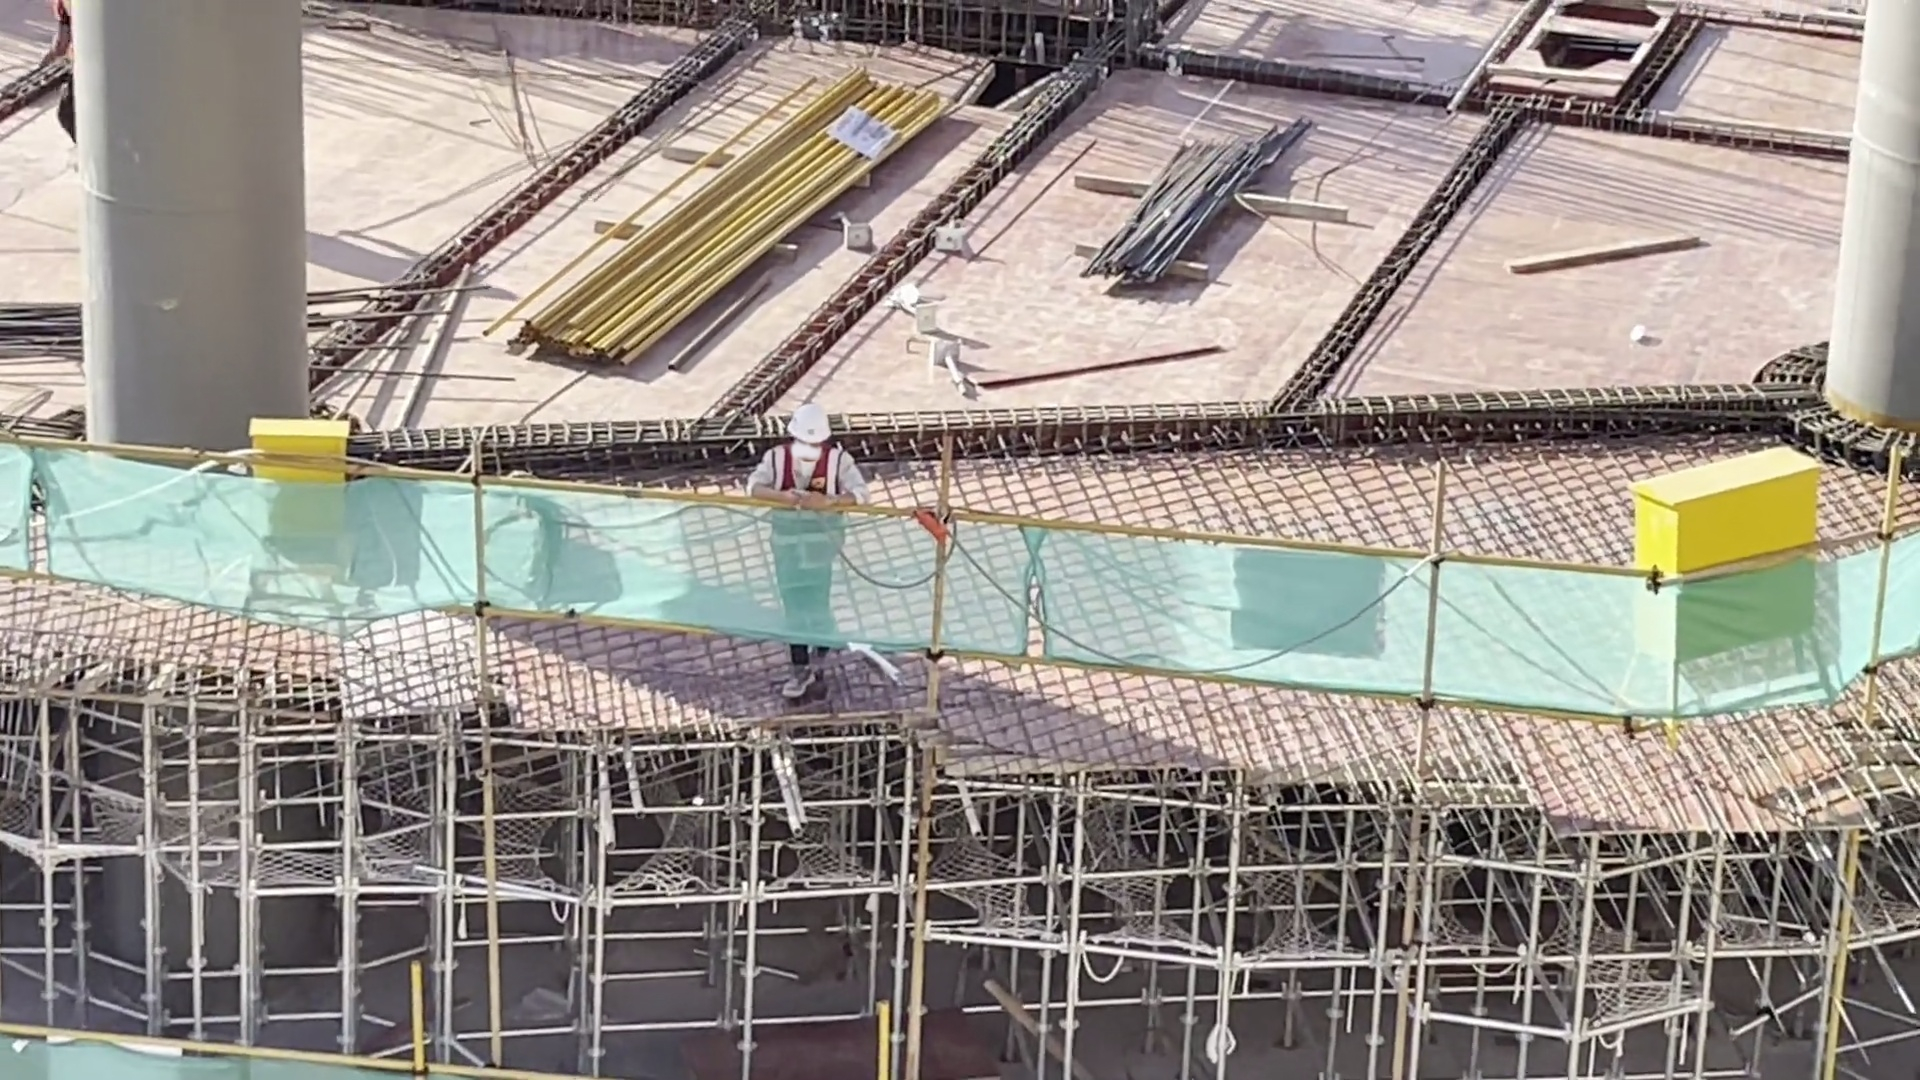ebox: (1633, 427, 1819, 645), (248, 405, 358, 563)
helmet: (782, 401, 835, 457)
person: (741, 383, 867, 704)
vest: (767, 456, 838, 572)
